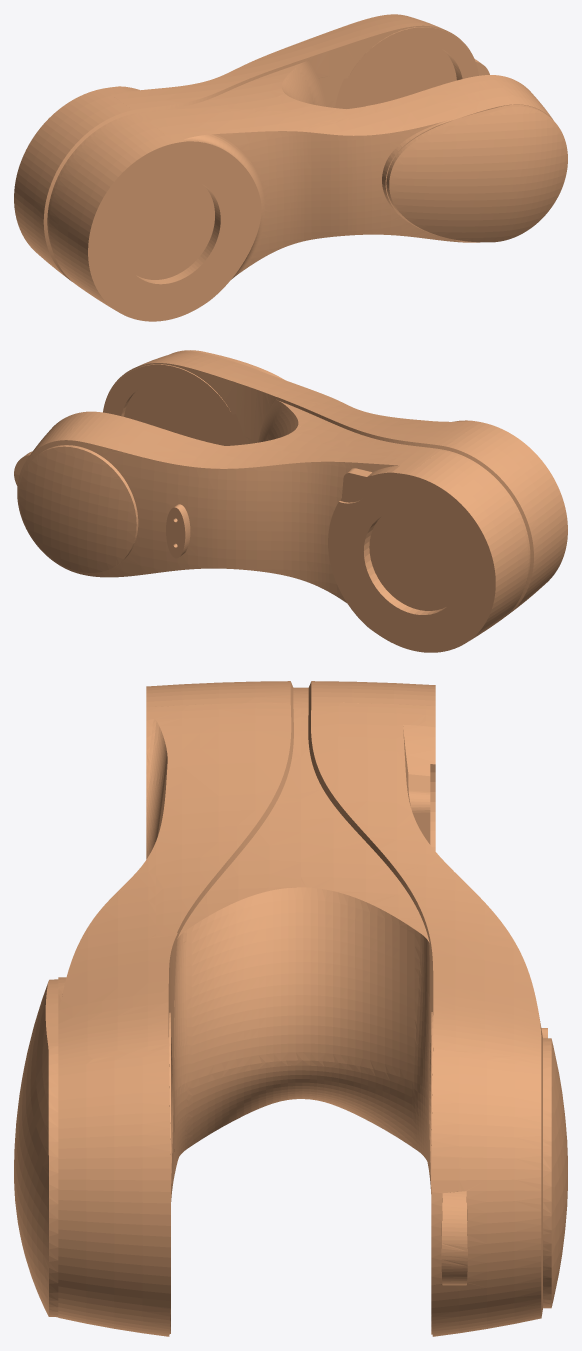
3 renders of one model, top to bottom at view 1: azimuth 30°, elevation 25°; view 2: azimuth 150°, elevation 25°; view 3: azimuth 270°, elevation 25°, orthographic. The views are drawn at different scales.
Visible parts, largest first — view 1: link_2; view 2: link_2; view 3: link_2.
Boxes of the visible parts, x1,y1,x2,y2 form: link_2: (14,14,567,321); link_2: (14,350,567,652); link_2: (14,681,567,1336).
Bounding box in the file's own units: 0.4905 × 0.2489 × 0.176.
